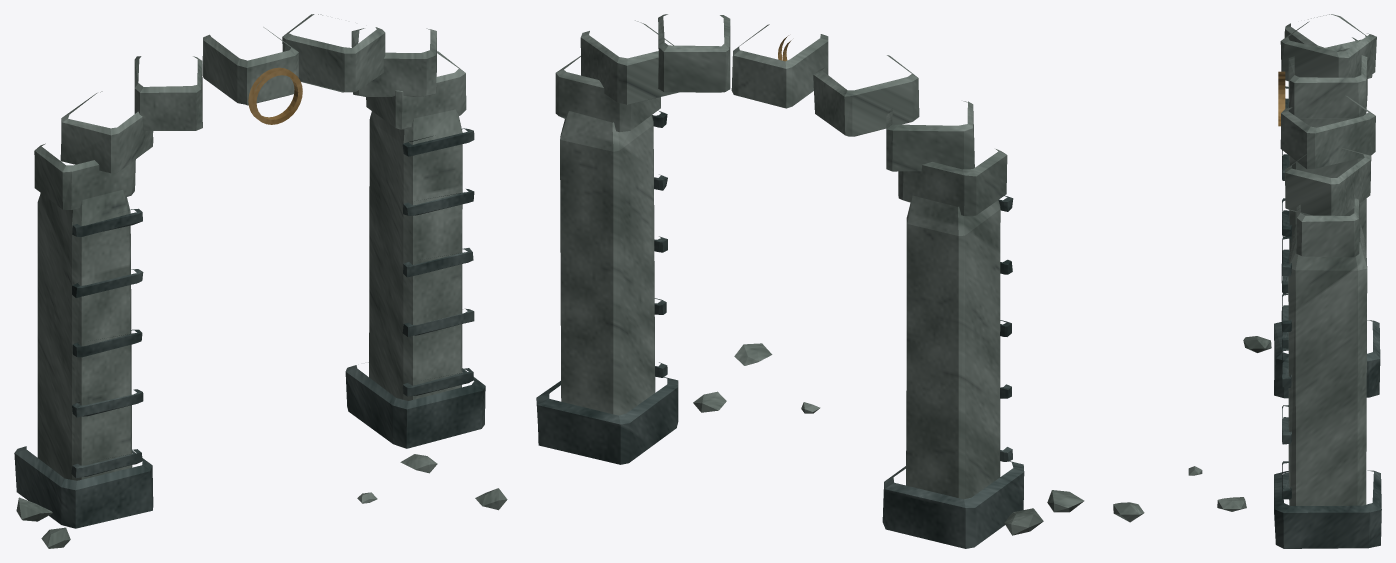
File: 0310_archway_10.glb
3 renders of one model, left to right at view 1: azimuth 30°, elevation 25°; view 2: azimuth 150°, elevation 25°; view 3: azimuth 270°, elevation 25°, orthographic. The views are drawn at different scales.
Parts seen in each view (by area): view 1: stone, stone_dark, brass; view 2: stone, stone_dark; view 3: stone, stone_dark, brass.
Boxes of the visible parts, x1=… form: stone: x1=16, y1=14, x2=507, y2=548; stone_dark: x1=14, y1=128, x2=485, y2=528; brass: x1=248, y1=67, x2=302, y2=124; stone: x1=555, y1=14, x2=1084, y2=535; stone_dark: x1=536, y1=110, x2=1024, y2=548; stone: x1=1113, y1=14, x2=1376, y2=522; stone_dark: x1=1274, y1=86, x2=1381, y2=548; brass: x1=1278, y1=71, x2=1285, y2=126.
Bounding box in the file's own units: 3.97 × 3.48 × 2.16.
Materials: 3 (3 with a texture image).
